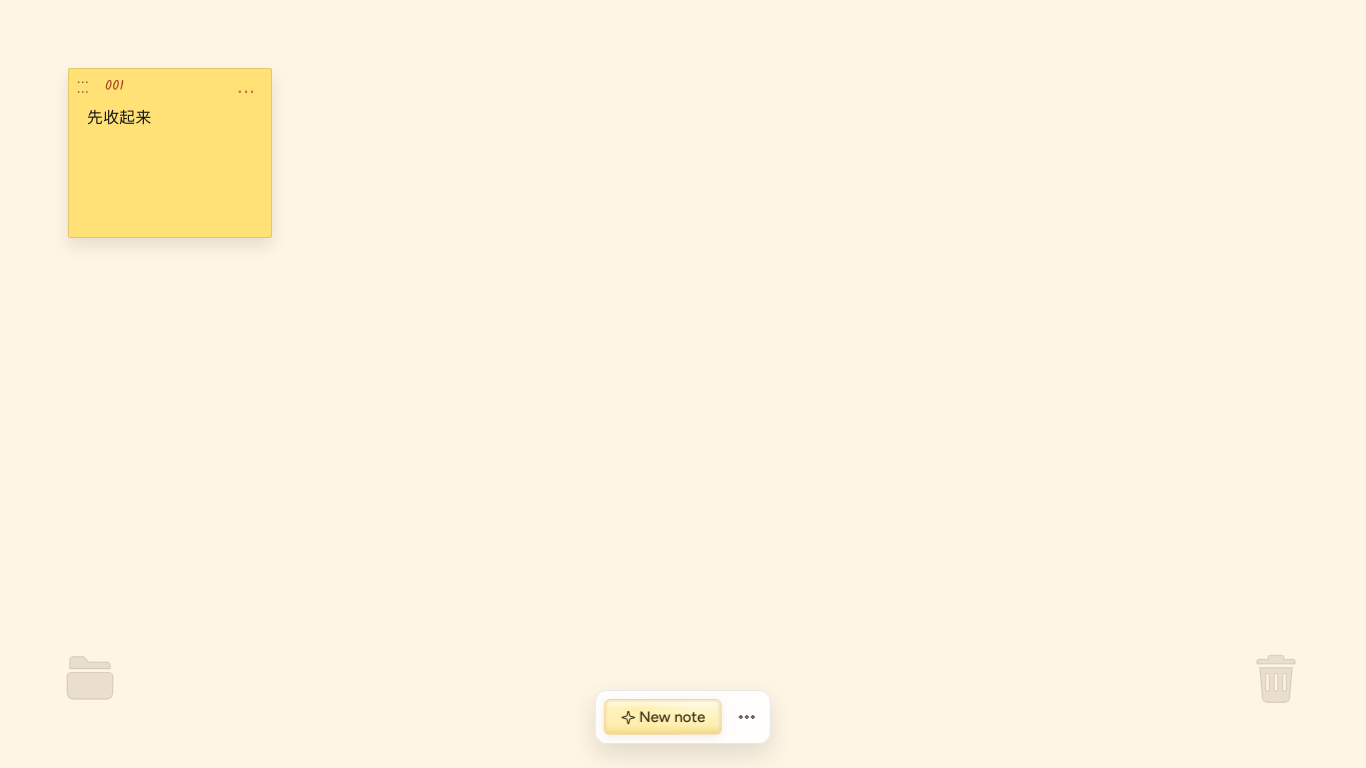
Scenario: LocalNotes › archives a note when a card corner enters the archive zone and restores it from the drawer
Expected: the text "先收起来" is shown, [87,107,253,129]
Step 1. Press the mouse on the text "先收起来" → (170, 153), box [68,68,272,238]
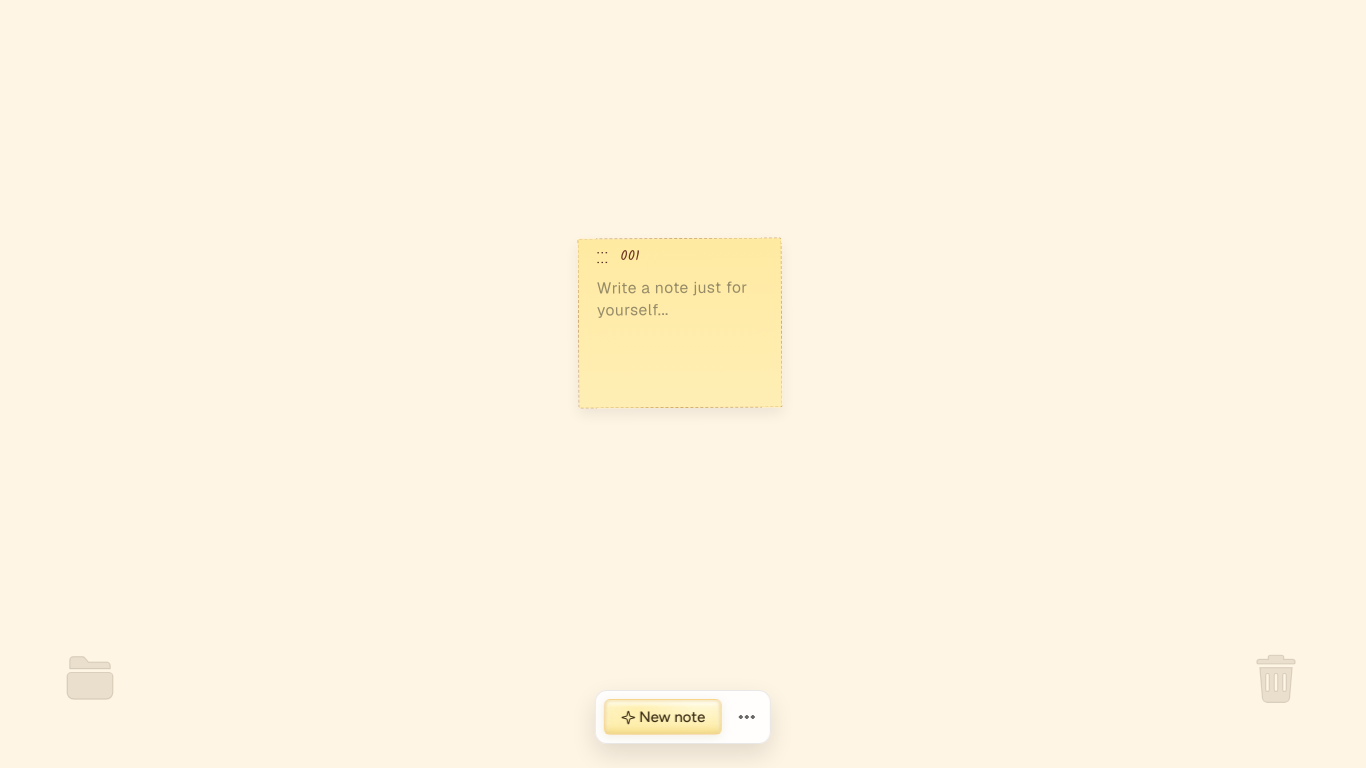
Now the button "先收起来" is gone
Step 2. Click the button named "Open archived notes" → click(90, 678), box [16,604,164,752]
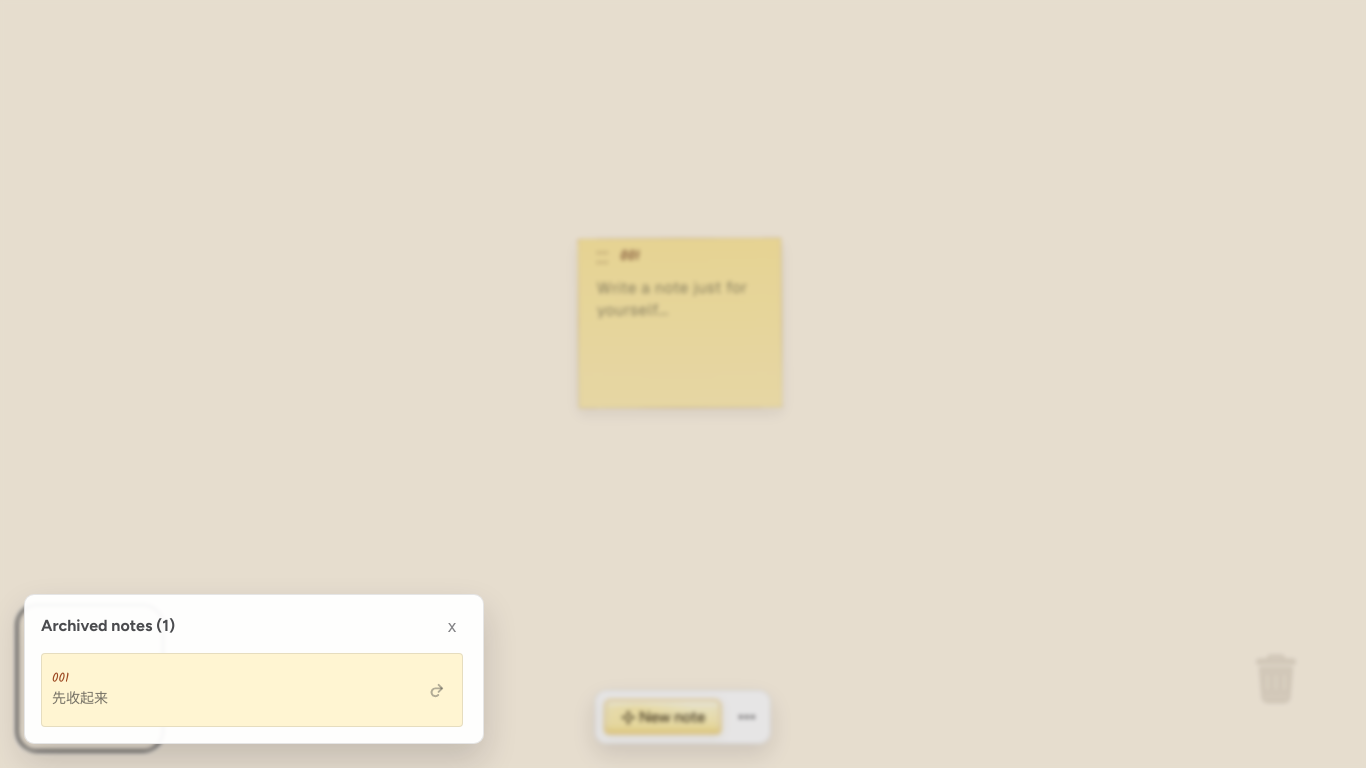
Now the dialog "Archived notes (1)" is shown, box [24,594,484,744]
Now the text "先收起来" is shown, box [52,688,108,710]
Now the icon is shown, box [428,682,444,698]
Step 3. Click the button named "Restore note: 先收起来" → click(436, 690), box [420,674,452,706]
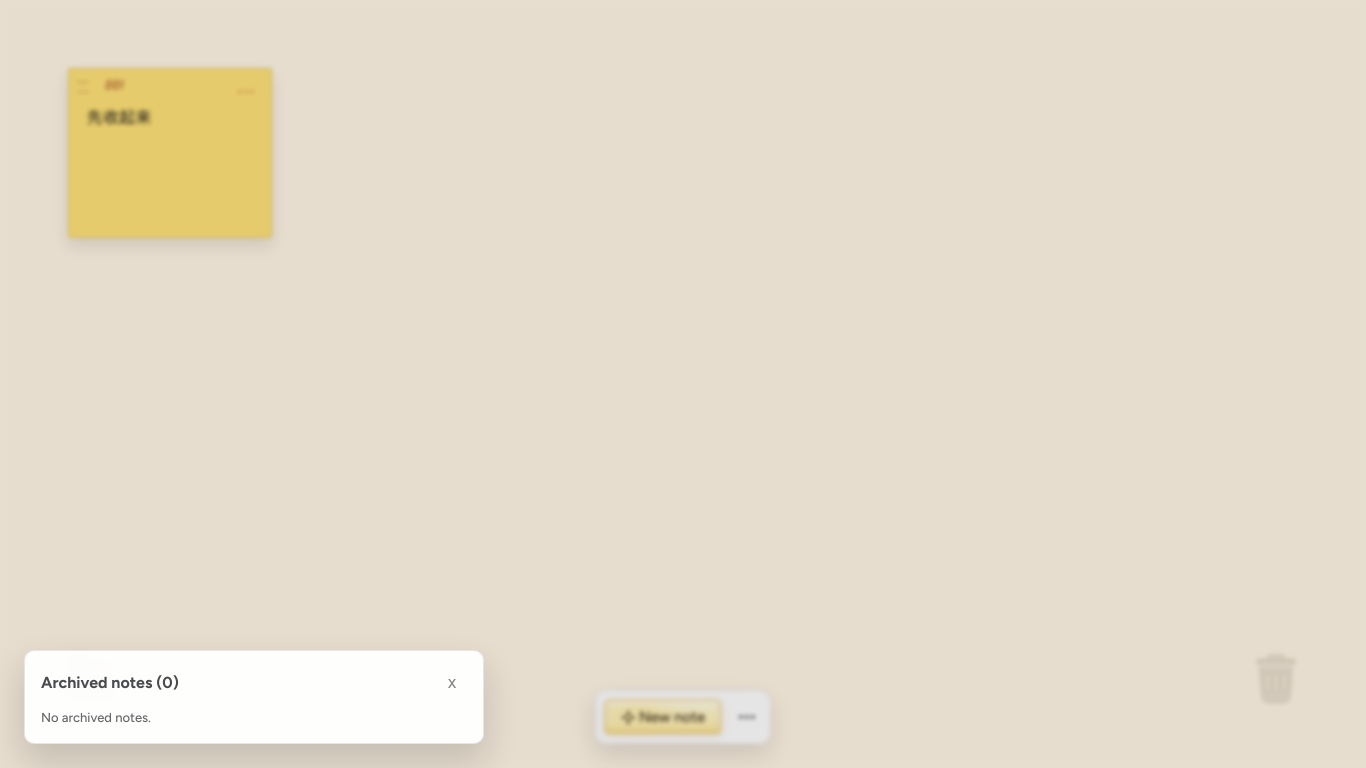
Now the element "⋮⋮ 001 ... 先收起来" is shown, box [68,68,272,238]
